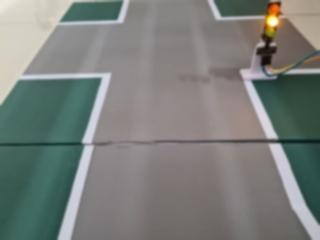yellow: (258, 0, 286, 48)
